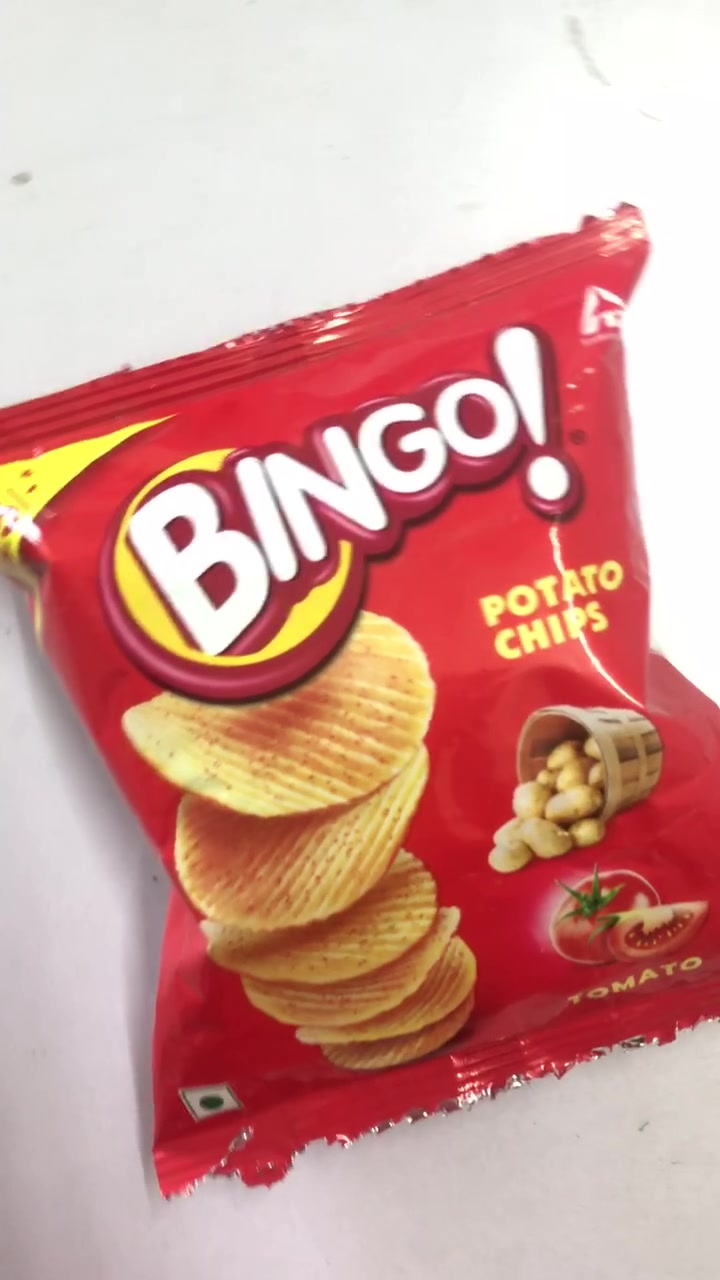Bingo: (8, 259, 702, 1113)
